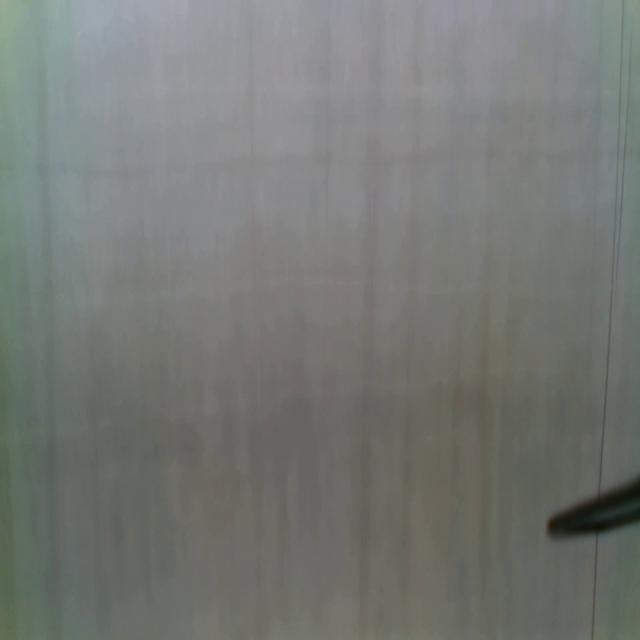crease: (597, 1, 629, 488), (590, 534, 601, 640)
